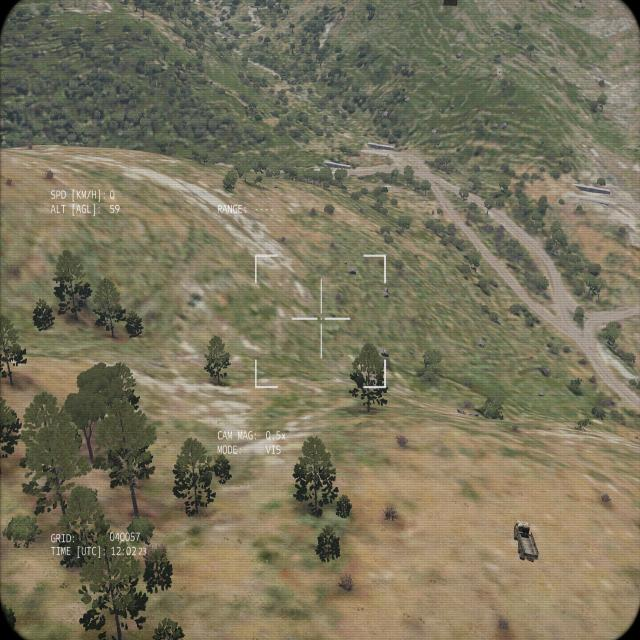truck: (511, 519, 538, 563)
